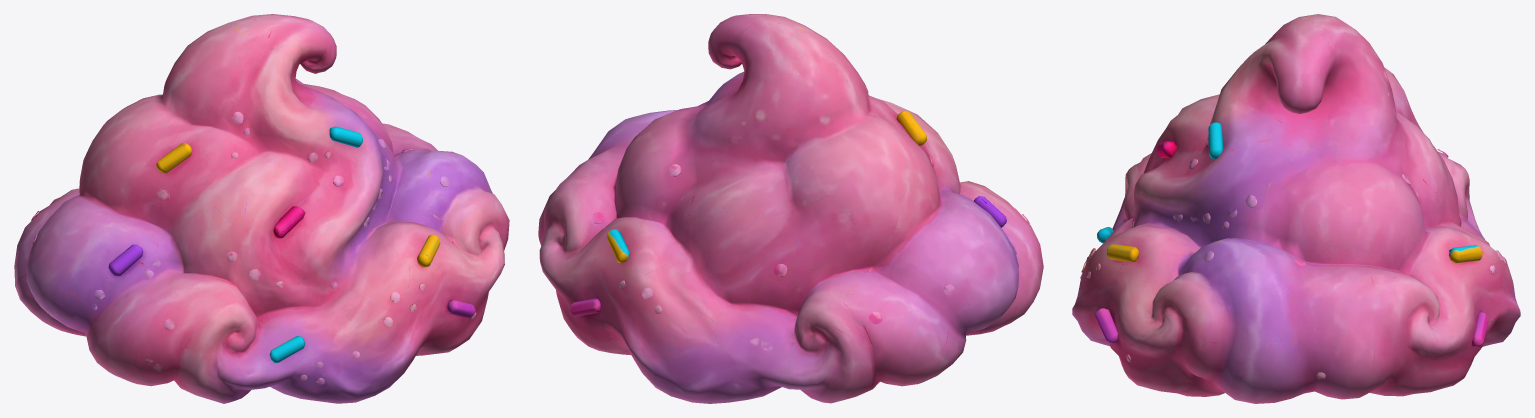
File: cotton_candy_cloud.glb
3 renders of one model, left to right at view 1: azimuth 30°, elevation 25°; view 2: azimuth 150°, elevation 25°; view 3: azimuth 270°, elevation 25°, orthographic. The views are drawn at different scales.
Size of what is drawn, in the model's own units: 1.48 by 1 by 1.27.
Materials: 1 (1 with a texture image).
